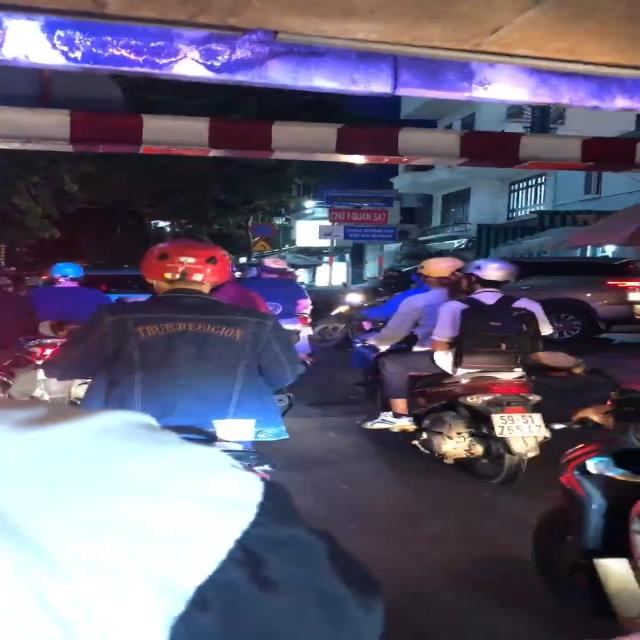Bien bao cho ngoat nguy hiem: (248, 238, 278, 252)
